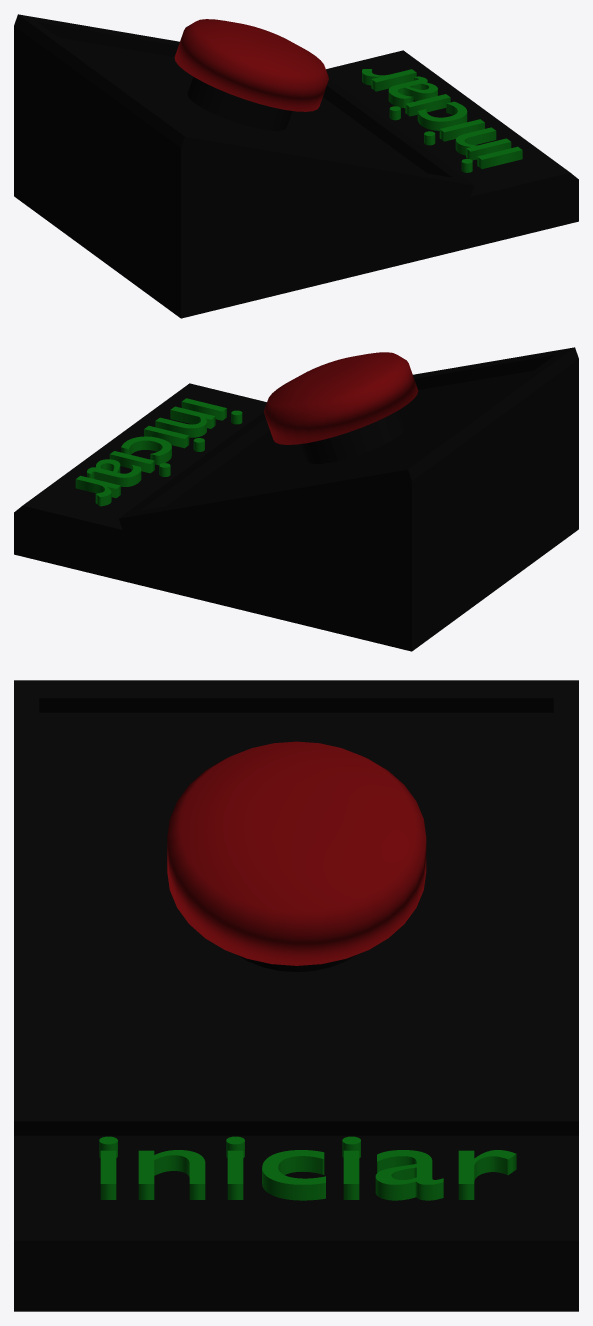
The model's file is iniciar.glb.
3 views of the same model, one above another, from view 1: azimuth 30°, elevation 25°; view 2: azimuth 150°, elevation 25°; view 3: azimuth 270°, elevation 25° (orthographic). The views are drawn at different scales.
Visible parts, largest first — view 1: Cube, Cube.001, Text; view 2: Cube, Cube.001, Text; view 3: Cube, Cube.001, Text.
Part boxes in pixels (x1,y1,x2,y2): Cube: (14,14,578,318); Cube.001: (174,19,328,130); Text: (362,69,522,172); Cube: (14,347,578,651); Cube.001: (264,352,418,463); Text: (75,398,242,506); Cube: (14,680,578,1311); Cube.001: (167,741,426,971); Text: (99,1136,516,1200).
Size of the model in its own units: 2.75 by 1.29 by 2.
